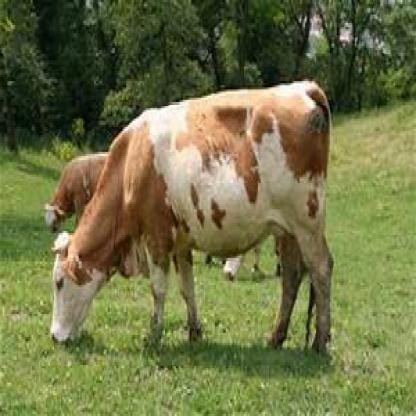cow: (43, 79, 337, 366)
